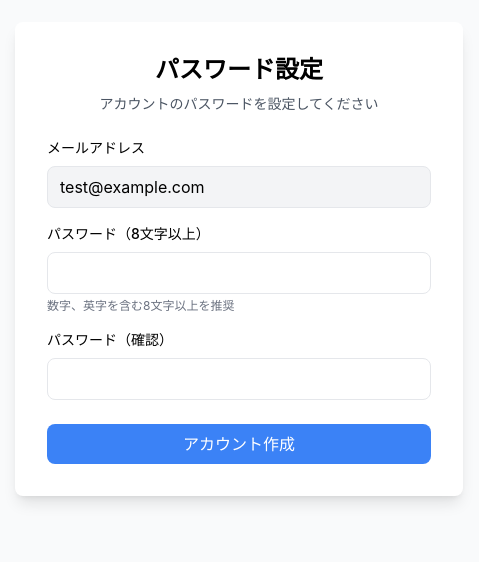
Test case: SetPasswordPage › linkWithCredential がその他のエラーで失敗 → エラー表示
In the password field below "パスワード（8文字以上）": [239, 273] box [47, 252, 431, 294], type "Test1234!"
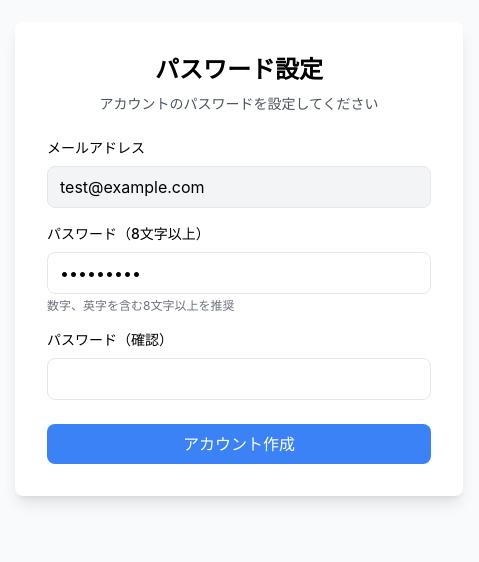
In the password field below "パスワード（確認）": [239, 379] box [47, 358, 431, 400], type "Test1234!"
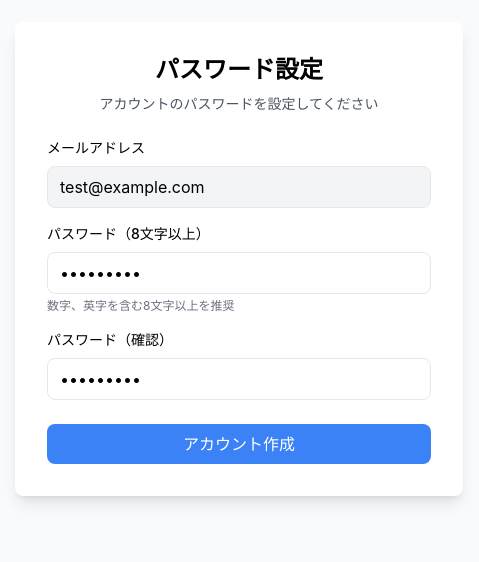
Click the button "アカウント作成": [239, 444] box [47, 424, 431, 464]
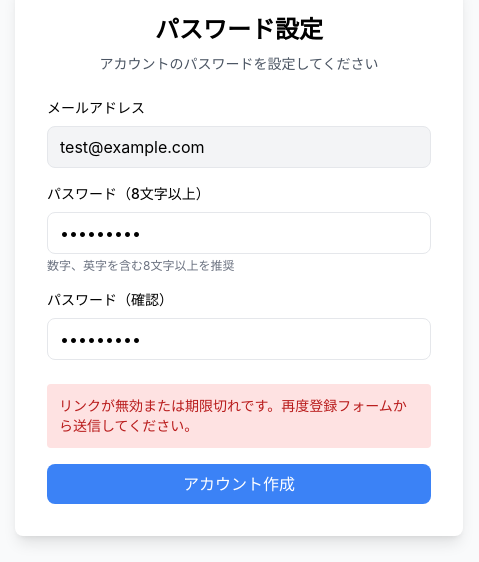
Expected: the text "リンクが無効または期限切れです。再度登録フォームから送信してください。" is shown, [47, 384, 431, 448]
